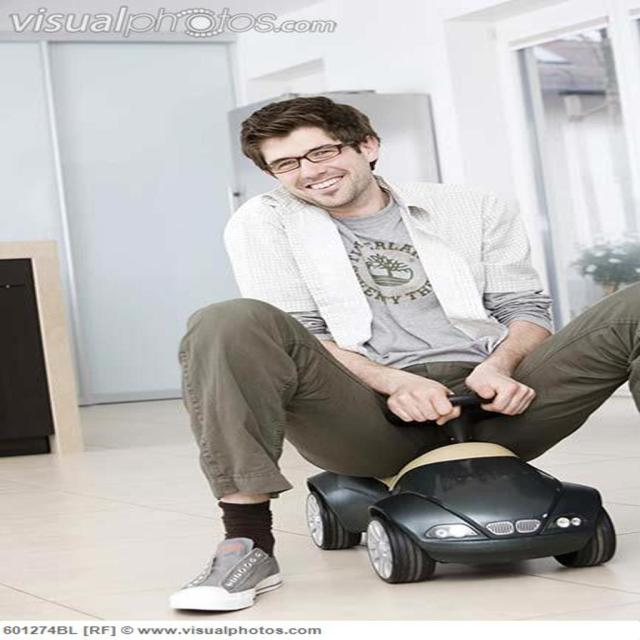Face: (231, 117, 397, 215)
